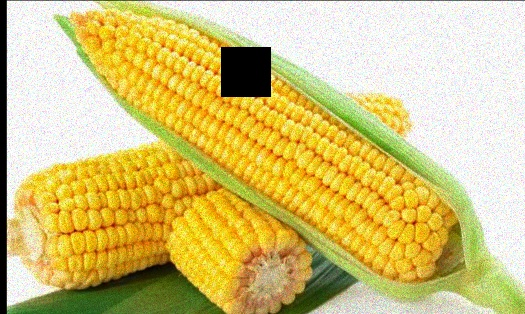corn: (79, 2, 508, 307), (20, 96, 412, 269)
